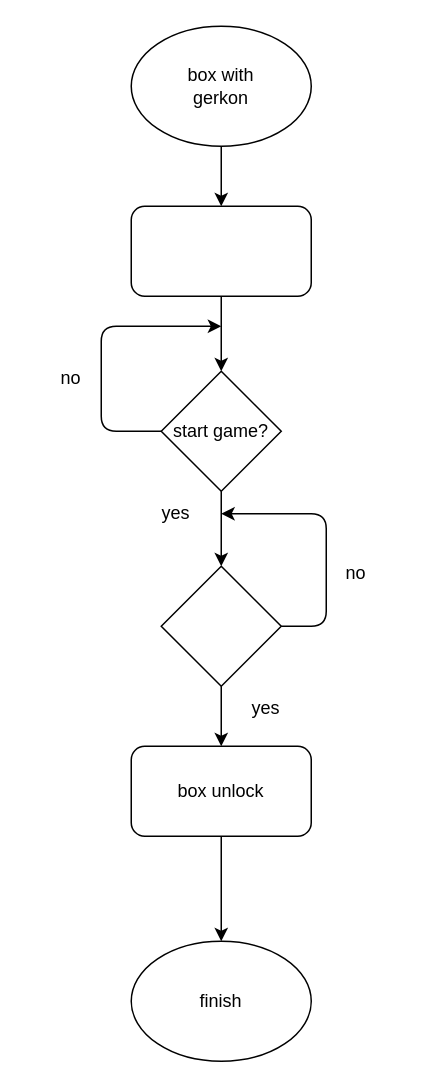
This 426x1088 diagram has some shape labels left out. The centre of each missing label's shape, as x and y in pixels:
"gerkon on activate?" belongs at point 220,625.
"init" belongs at point 220,250.
